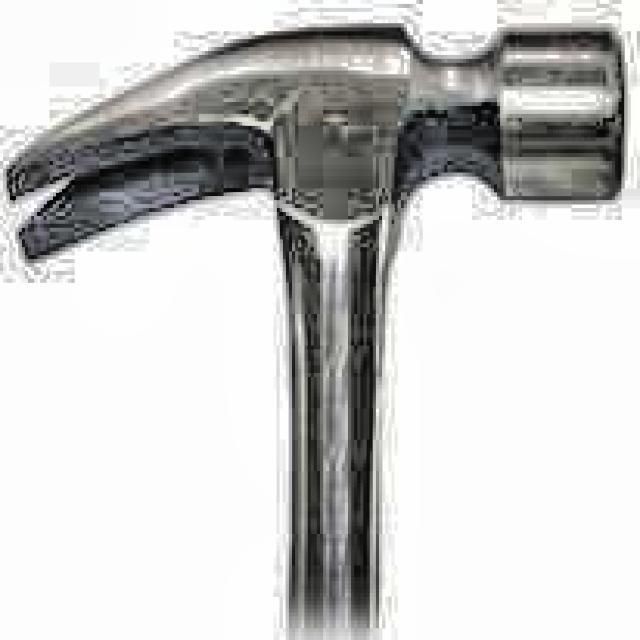hammer: (5, 24, 631, 628)
